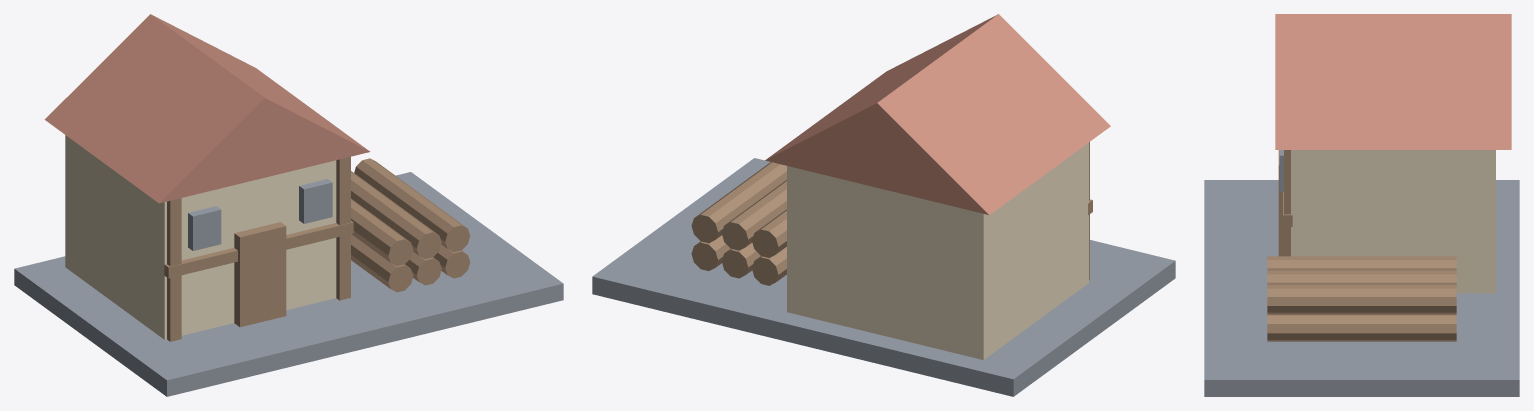
The model's file is aserradero.glb.
3 views of the same model, side by side, from view 1: azimuth 30°, elevation 25°; view 2: azimuth 150°, elevation 25°; view 3: azimuth 270°, elevation 25° (orthographic). The views are drawn at different scales.
Visible parts, largest first — view 1: world; view 2: world; view 3: world.
Boxes of the visible parts, <box> form: world: <box>14,14,563,396</box>; world: <box>592,14,1175,396</box>; world: <box>1204,14,1519,396</box>.
Bounding box in the file's own units: 6 × 3.49 × 4.
